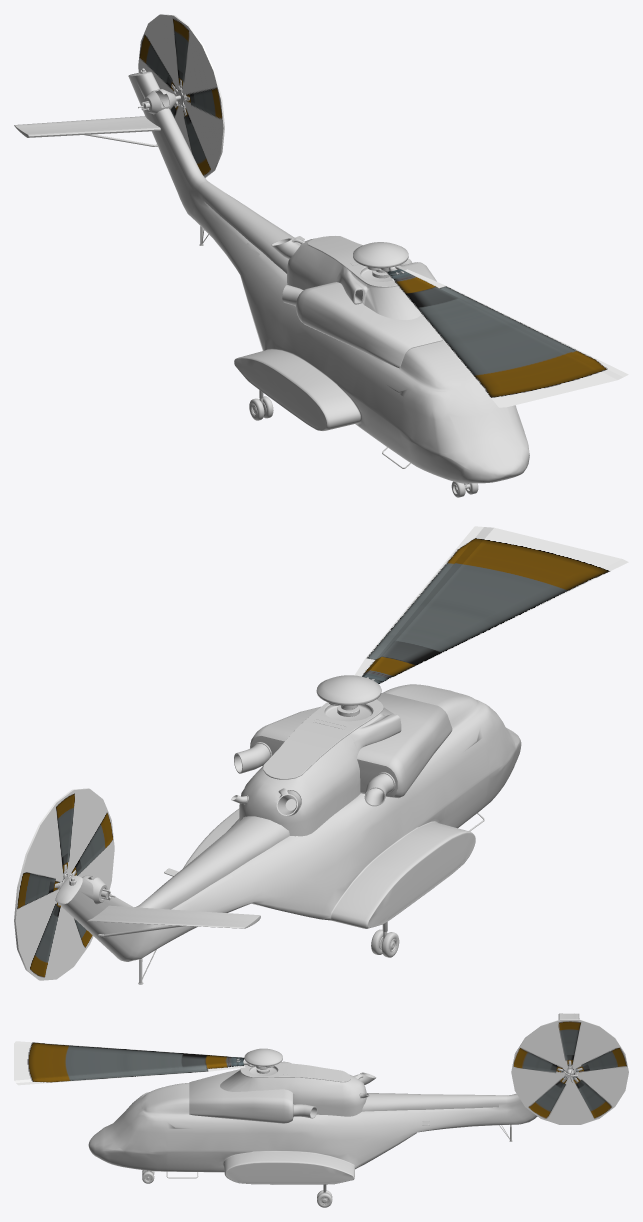
3 renders of one model, top to bottom at view 1: azimuth 30°, elevation 25°; view 2: azimuth 150°, elevation 25°; view 3: azimuth 270°, elevation 25°, orthographic. The views are drawn at different scales.
Parts seen in each view (by area): view 1: L_AC313_low, 对象001, xuanyi_2, xuanyi_1; view 2: L_AC313_low, 对象001, xuanyi_2, xuanyi_1; view 3: L_AC313_low, xuanyi_2, 对象001, xuanyi_1.
Boxes of the visible parts, bbox=[...] form: L_AC313_low: bbox=[14, 68, 529, 497]; 对象001: bbox=[386, 269, 628, 407]; xuanyi_2: bbox=[138, 14, 224, 177]; xuanyi_1: bbox=[353, 242, 408, 278]; L_AC313_low: bbox=[55, 684, 521, 984]; 对象001: bbox=[354, 526, 628, 683]; xuanyi_2: bbox=[14, 788, 114, 980]; xuanyi_1: bbox=[316, 675, 381, 716]; L_AC313_low: bbox=[88, 1013, 579, 1207]; xuanyi_2: bbox=[511, 1019, 628, 1124]; 对象001: bbox=[14, 1041, 245, 1085]; xuanyi_1: bbox=[244, 1048, 282, 1073].
Size of the model in its own units: 8.74 by 9.17 by 30.3.
